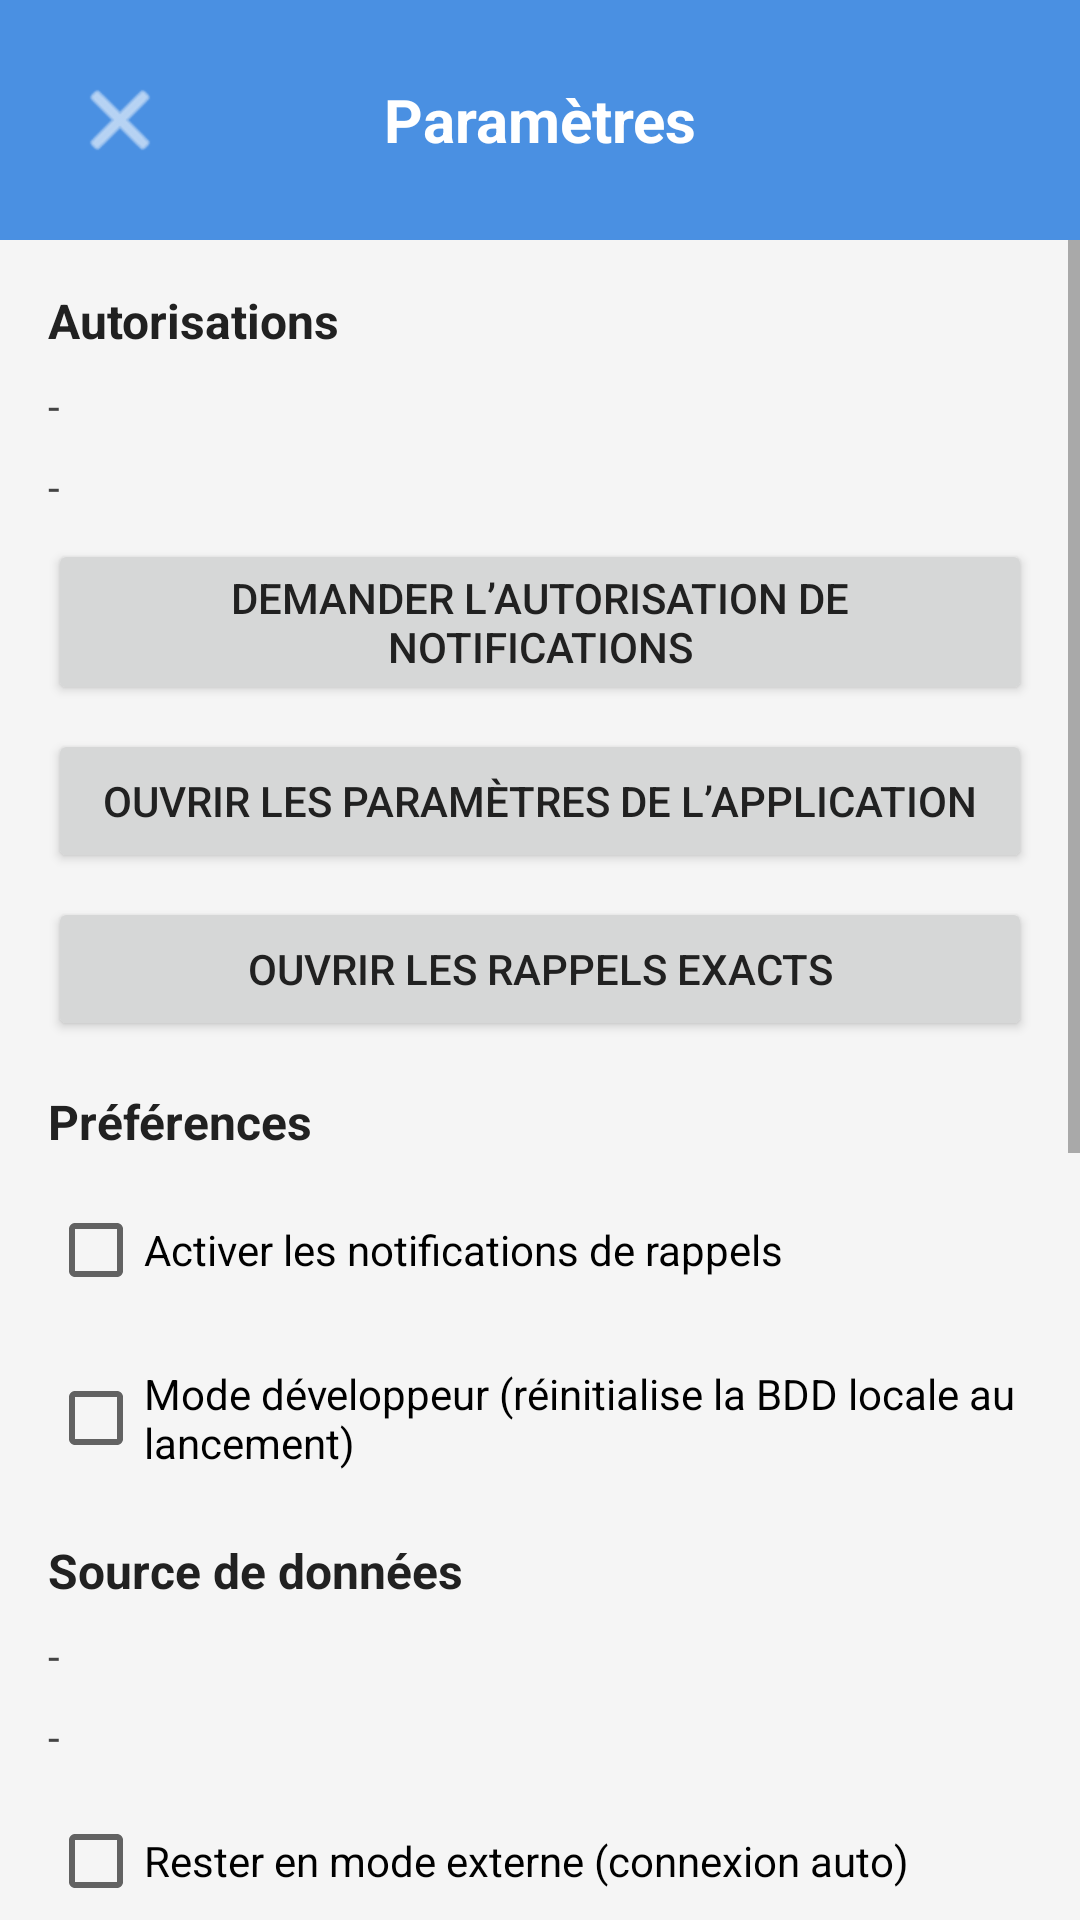

Where to tap for icons on this 1080 × 1920 app screen, as (x,y):
Retour: (120,120)
